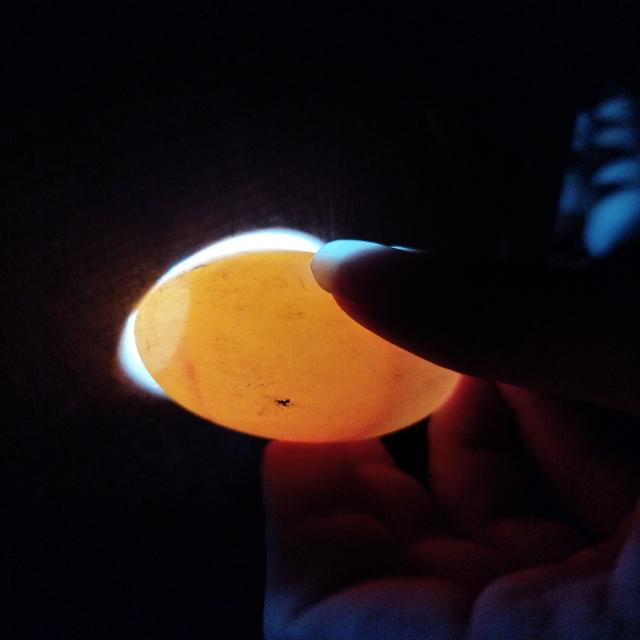Camara de Ar: (135, 275, 188, 372)
